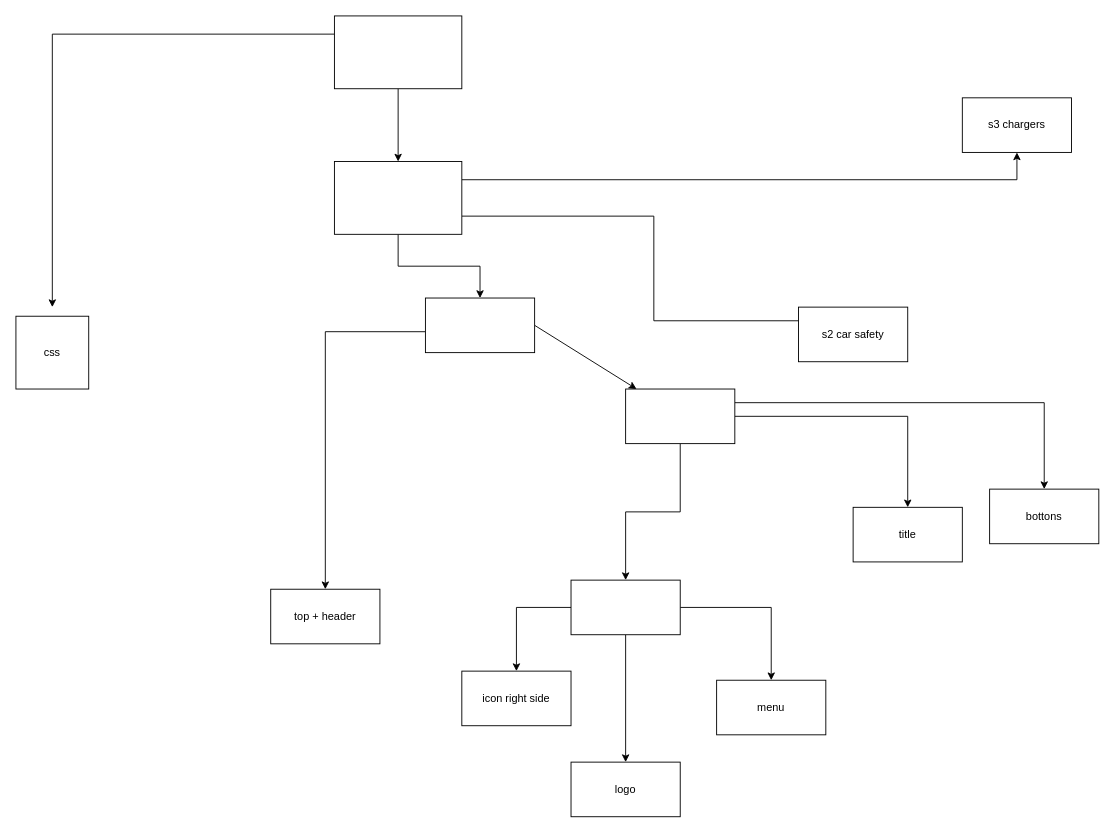
Image size: 1115x833. Some labels were removed from this diagram. Here are the shapes that lost their labels. From the top down, the centre of each, then its label:
(x=398, y=52): site
(x=398, y=197): html
(x=480, y=325): s1
(x=680, y=416): hero
(x=625, y=607): navbar
